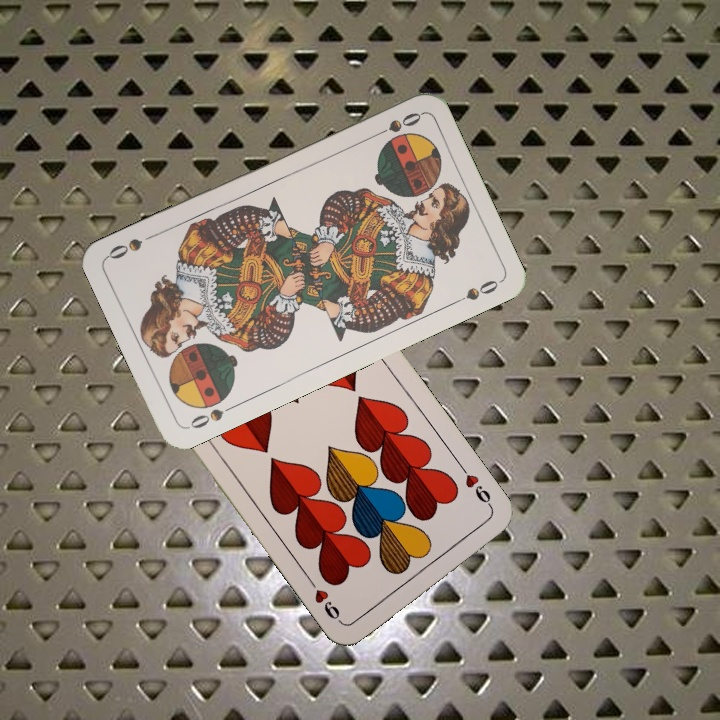H9: (456, 461, 496, 512)
SO: (368, 108, 424, 141), (184, 400, 239, 432)
